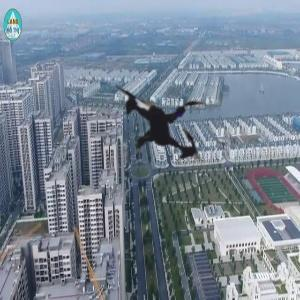drone: (73, 31, 250, 208)
